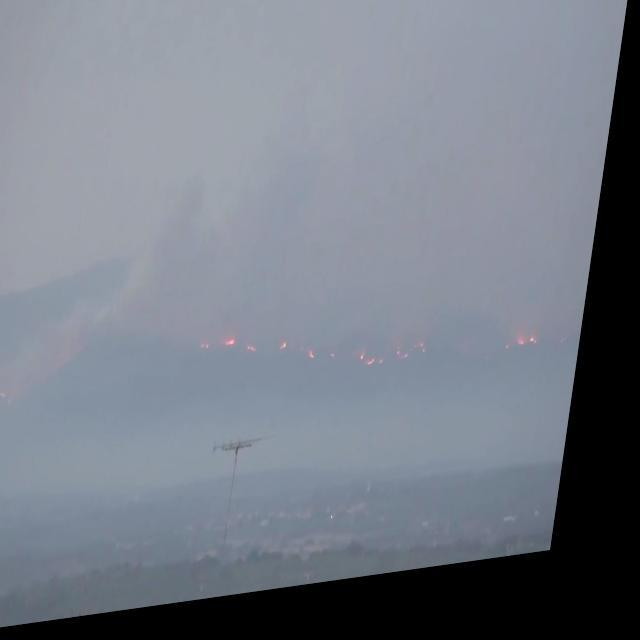Fire: (234, 342, 248, 357), (540, 350, 551, 364), (318, 357, 328, 371), (256, 350, 266, 364), (378, 368, 388, 379), (530, 354, 538, 364), (372, 362, 378, 373), (290, 352, 298, 359)
